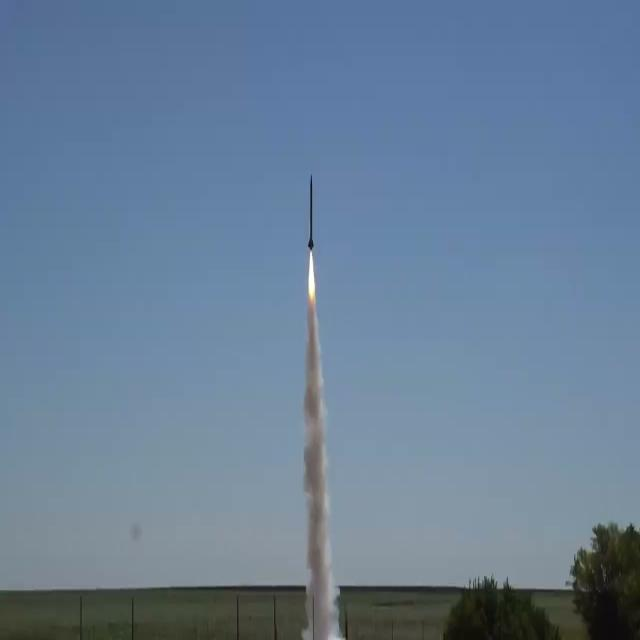Rocket: (307, 172, 315, 252)
